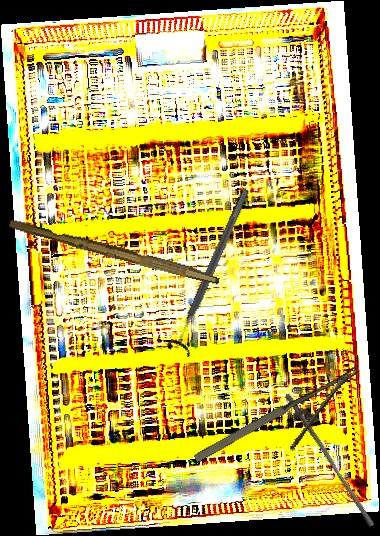Fixation Ring: (164, 184, 259, 358)
Needle Holder: (190, 365, 378, 491)
Pusher: (279, 392, 380, 528)
Scalpel Handle: (7, 217, 222, 286)
